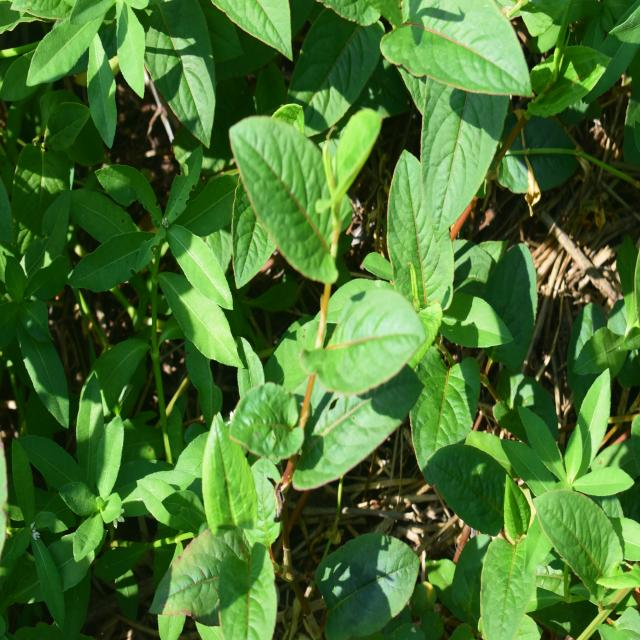Chinese_knotweed: (238, 125, 505, 465)
